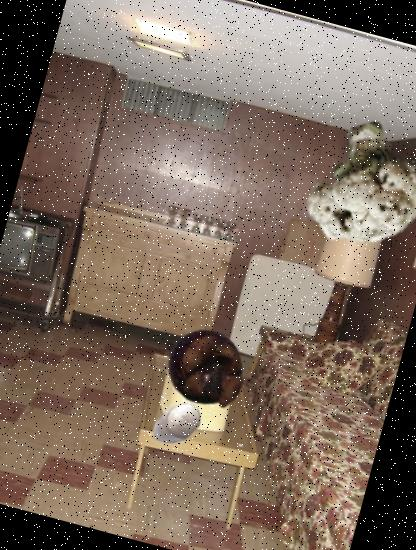Cauliflower: (285, 105, 416, 264)
Hazelnut: (144, 391, 209, 457)
Mangostan: (156, 318, 259, 420)
